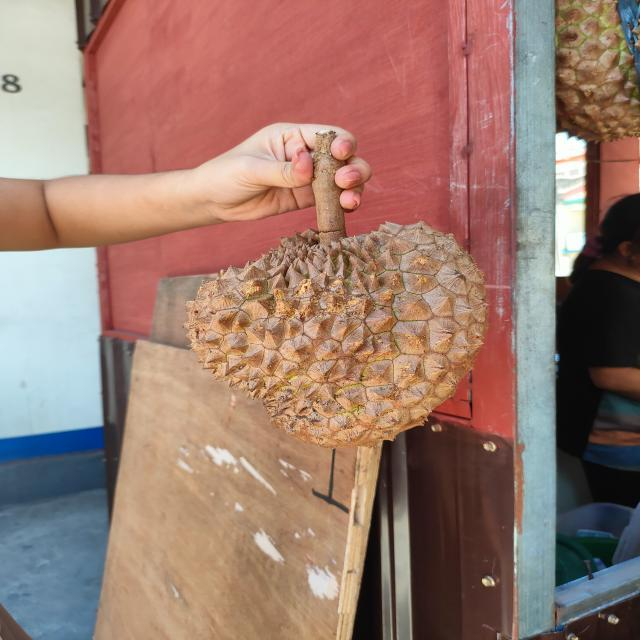mature: (179, 220, 491, 451)
